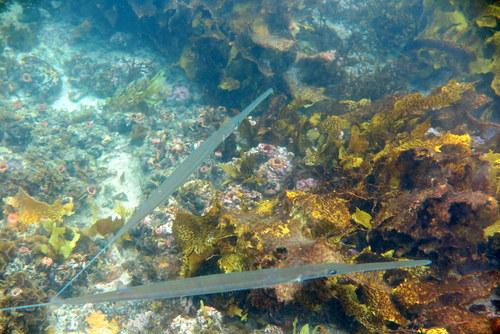Fistularia commersonii: (93, 48, 292, 239), (56, 244, 470, 312)
